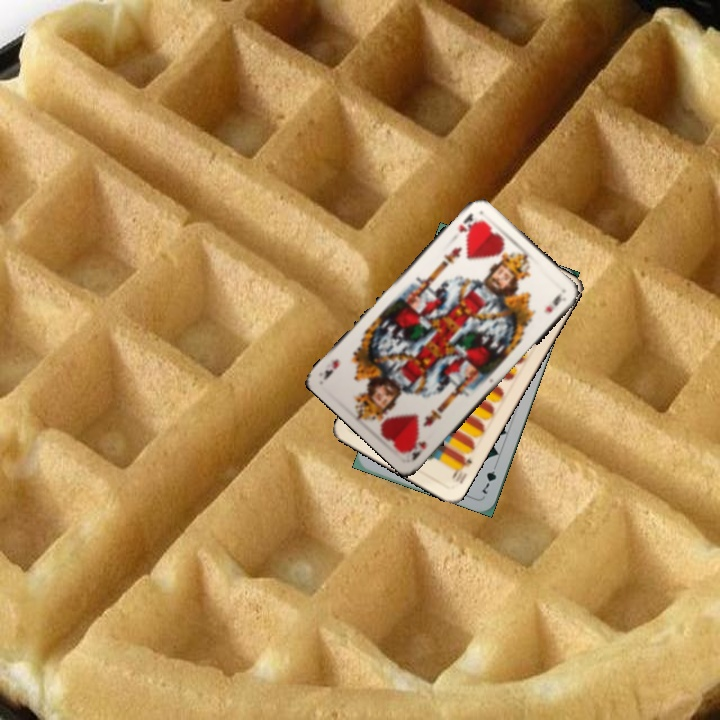E10: (448, 452, 475, 487)
G7: (478, 458, 500, 497)
HK: (404, 437, 429, 463), (455, 209, 480, 235)
